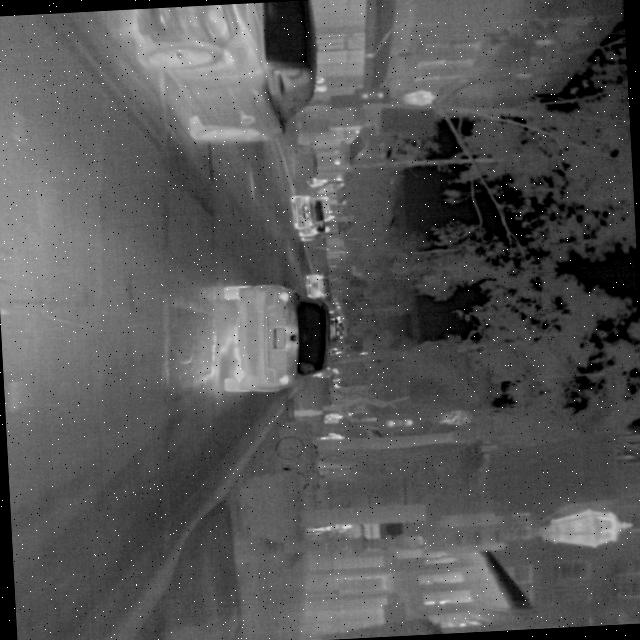Pedestrian: (306, 522, 352, 536), (302, 176, 328, 188), (316, 432, 344, 442)
Vehicle: (128, 0, 324, 150), (215, 278, 338, 397), (290, 192, 324, 232)
